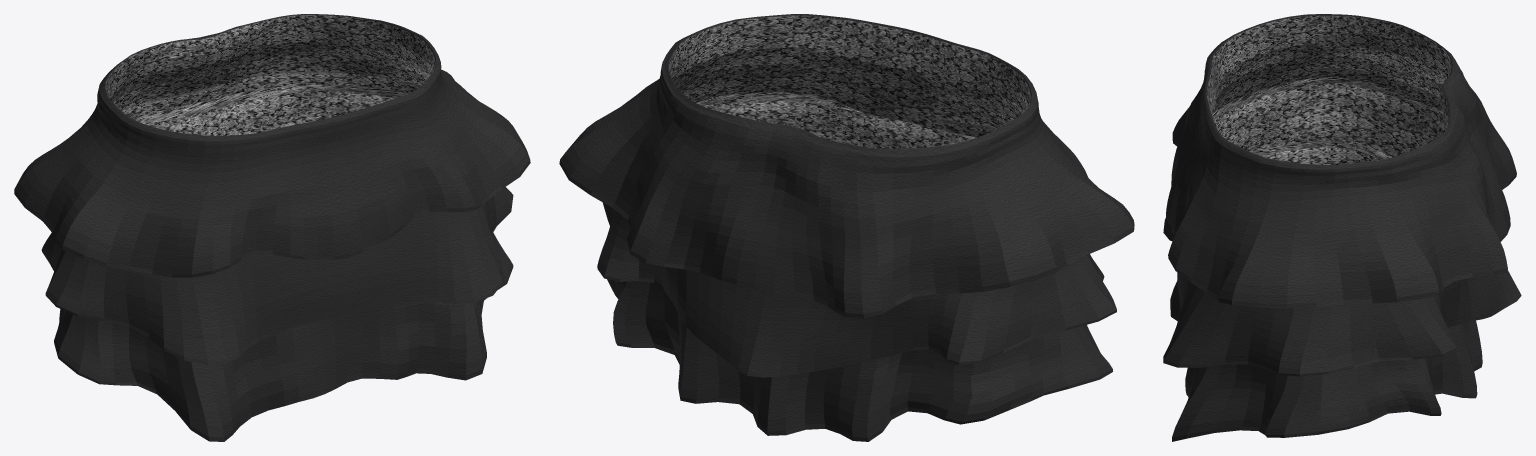
File: garment.glb
The picture shows the model from 3 angles, left to right: view 1: azimuth 30°, elevation 25°; view 2: azimuth 150°, elevation 25°; view 3: azimuth 270°, elevation 25°; orthographic projection. The views are drawn at different scales.
Parts seen in each view (by area): view 1: garment; view 2: garment; view 3: garment.
Boxes of the visible parts, <box> form: garment: <box>14,14,530,441</box>; garment: <box>559,14,1134,441</box>; garment: <box>1163,14,1521,441</box>.
Size of the model in its own units: 4.88 by 2.85 by 3.18.
Materials: 1 (1 with a texture image).
